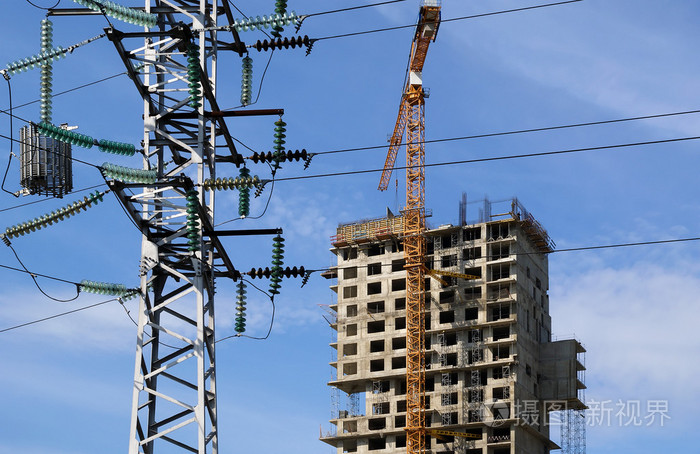insulator: (7, 189, 103, 242), (38, 120, 137, 157), (76, 1, 159, 25), (38, 18, 57, 121), (7, 45, 65, 74), (229, 11, 300, 32), (100, 161, 156, 187), (183, 192, 201, 254), (270, 234, 287, 299), (187, 44, 203, 108), (248, 265, 308, 282), (255, 34, 310, 52), (254, 149, 305, 168), (201, 175, 263, 190), (236, 169, 252, 219), (274, 118, 288, 169), (239, 56, 253, 107), (233, 282, 246, 335), (79, 277, 122, 292), (271, 1, 288, 32), (117, 287, 147, 302)
